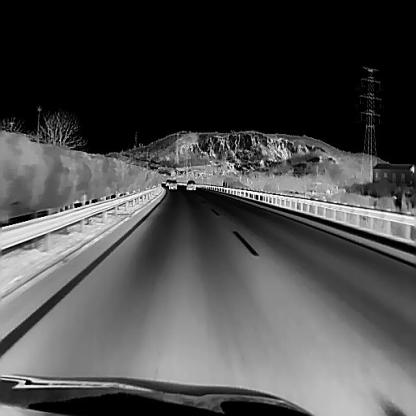car: (185, 179, 195, 189), (167, 178, 176, 188), (165, 178, 170, 185)
